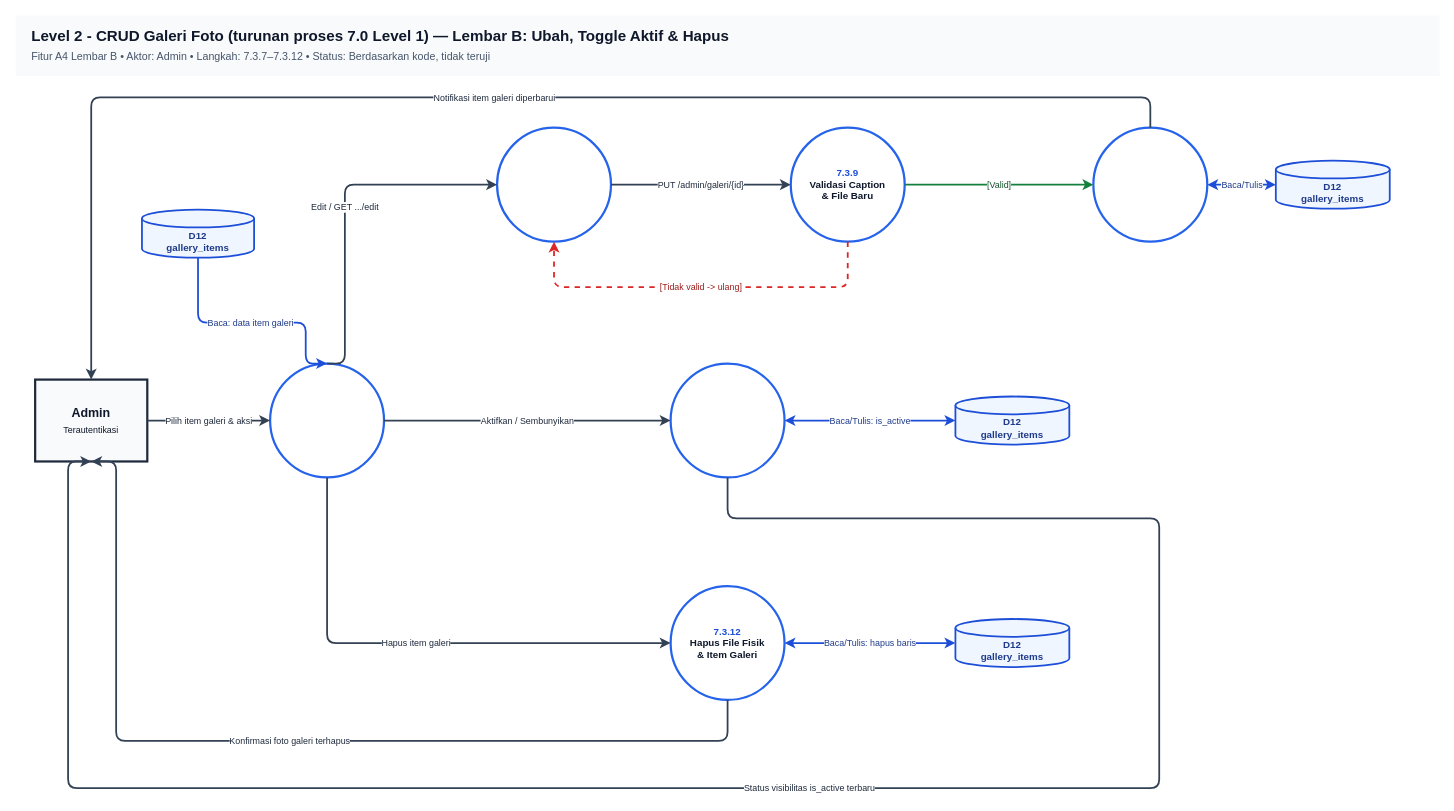
Some shapes in this 1454 by 811 pixel diagram are drawn without their labels. The centre of each missing label's shape, as x and y in pixels:
"7.3.10 Perbarui Data & Foto Galeri" belongs at pixel 1150 184.
"7.3.11 Toggle Tampil / Sembunyikan" belongs at pixel 727 420.
"7.3.7 Pilih Aksi Item Galeri" belongs at pixel 327 420.
"7.3.8 Ubah Caption / Foto di Modal" belongs at pixel 554 184.
